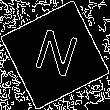N_S: (28, 24, 82, 86)
